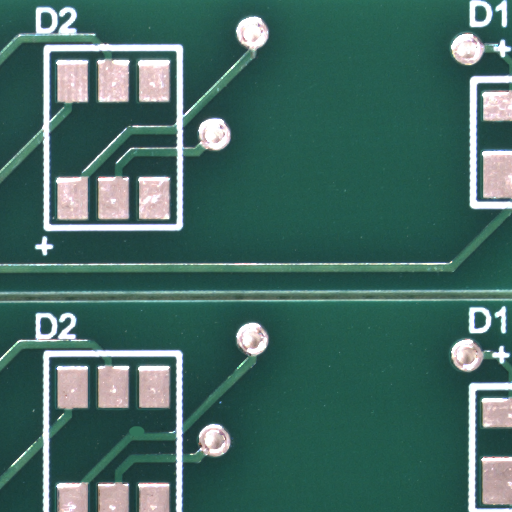Spur: (137, 429, 156, 438)
